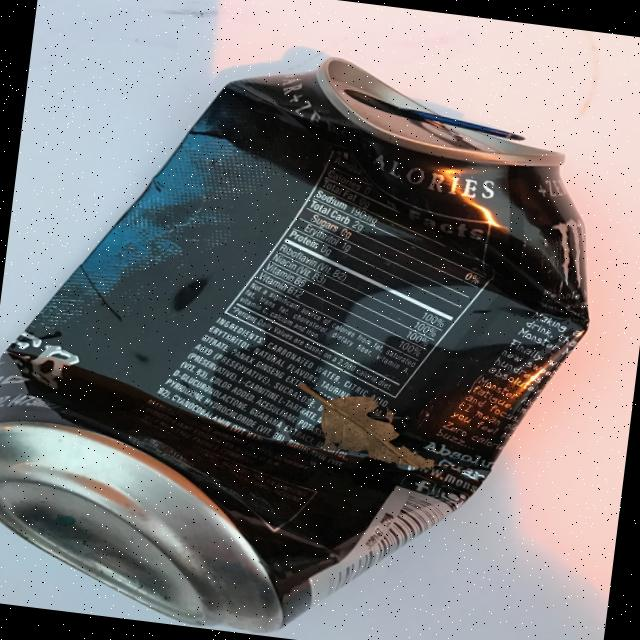metal: (0, 18, 618, 640)
